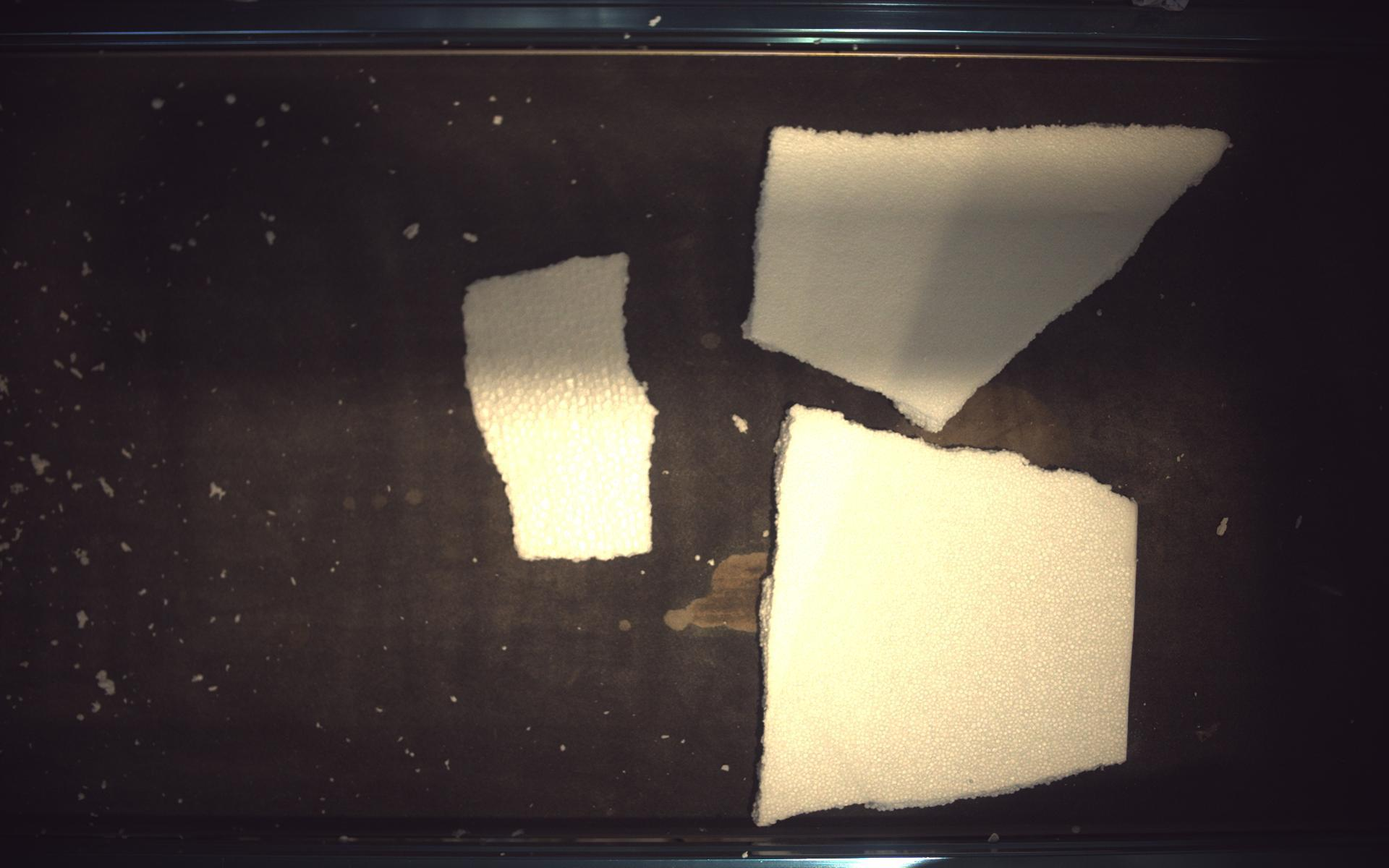foam: (756, 406, 1139, 827), (745, 124, 1232, 431), (463, 252, 658, 561)
